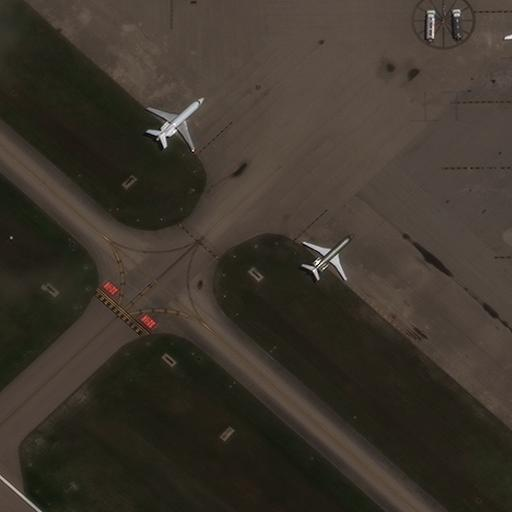Medium Civil Transport: (149, 96, 203, 149), (304, 234, 353, 278)
